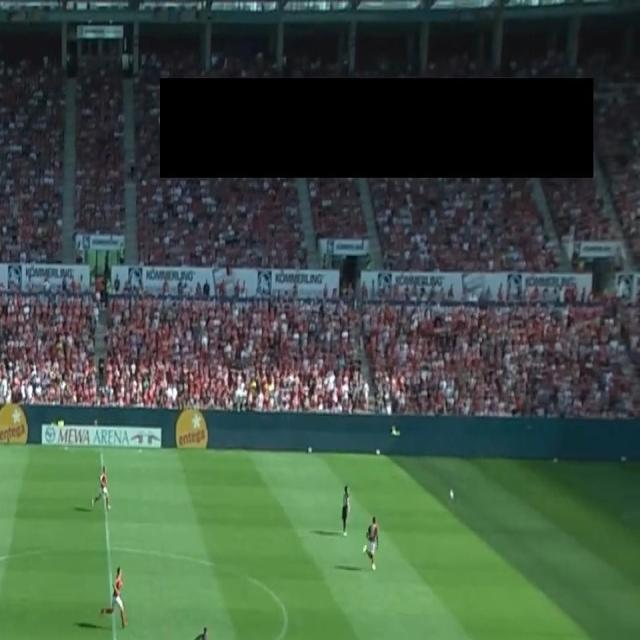ball: (448, 488, 454, 501)
